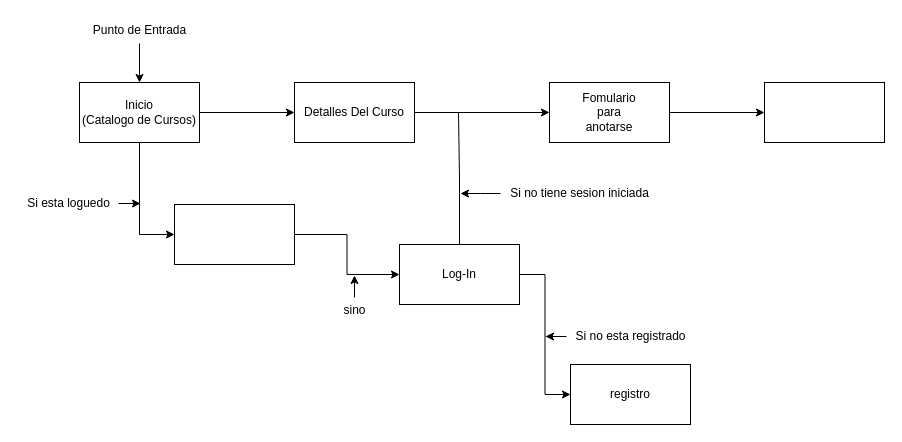
The diagram is 902 pixels wide and 442 high, and some of its shapes have lost their labels. Here are the shapes that lost their labels. From the top down, the centre of each, then its label:
point (824, 112): Alerta Correcto/Error
point (234, 234): perfil
